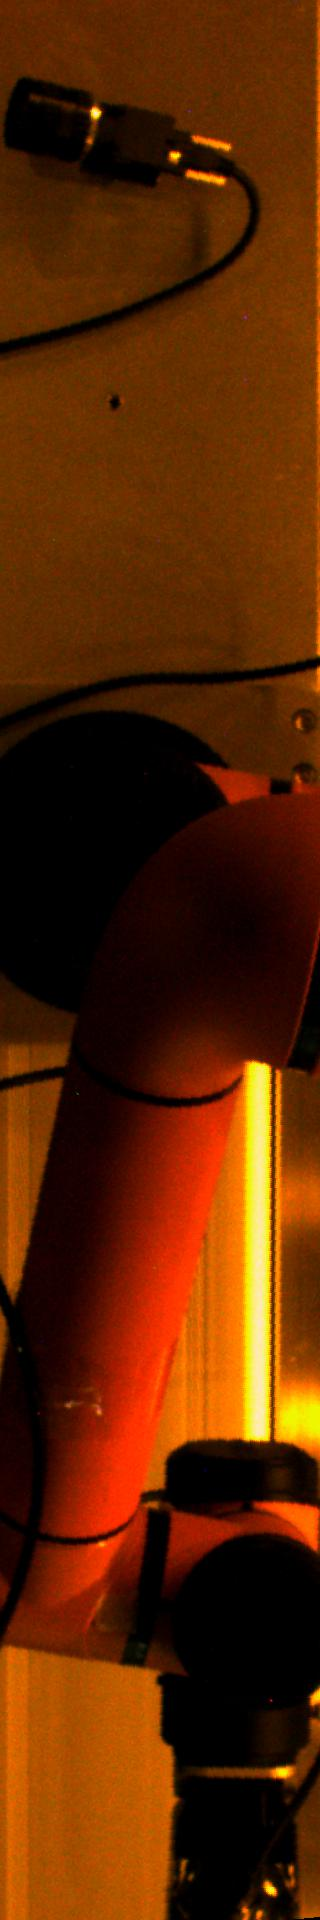keyPoint_2: (99, 389, 129, 419)
